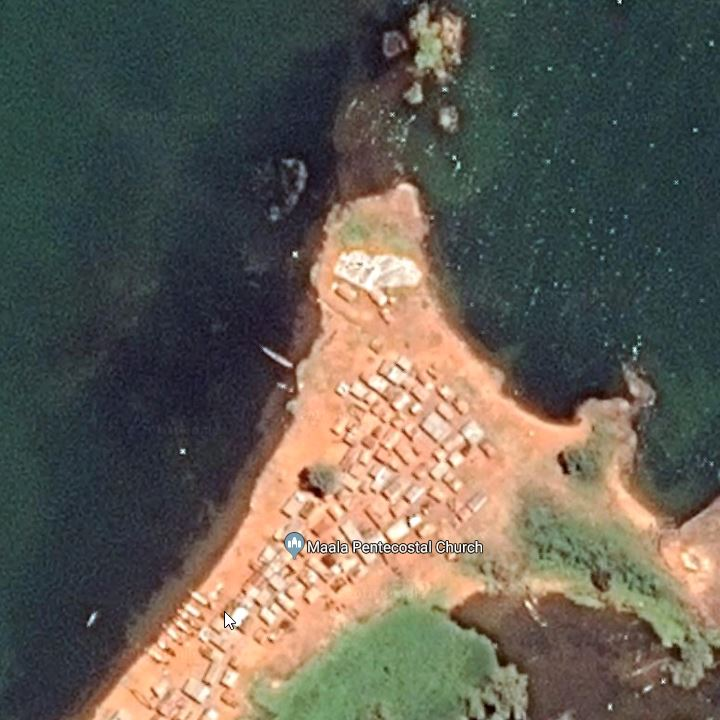boat: (254, 340, 304, 373), (169, 603, 208, 633), (135, 646, 173, 672), (182, 585, 222, 608), (155, 617, 184, 647), (169, 615, 200, 640), (151, 636, 178, 662), (181, 599, 208, 622), (81, 607, 102, 633)
